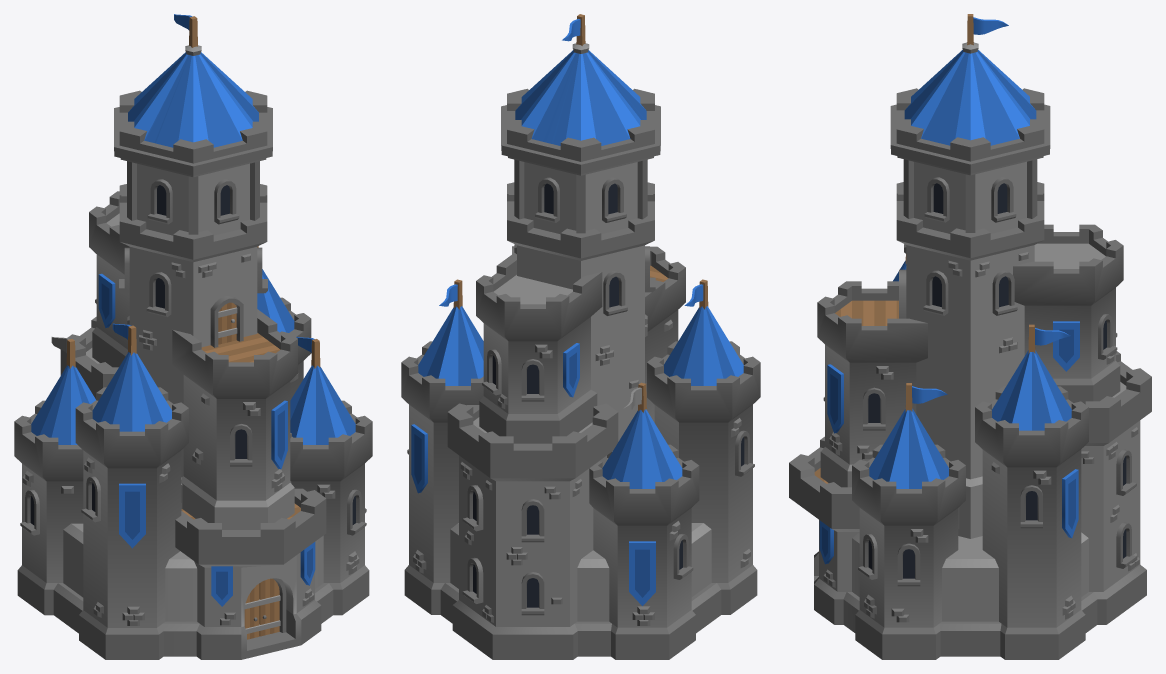
Rendered from castle.glb.
3 views of the same model, side by side, from view 1: azimuth 30°, elevation 25°; view 2: azimuth 150°, elevation 25°; view 3: azimuth 270°, elevation 25° (orthographic).
Visible parts, largest first — view 1: castle; view 2: castle; view 3: castle.
Boxes of the visible parts, x1,y1,x2,y2 form: castle: (14, 14, 372, 659); castle: (401, 14, 760, 659); castle: (789, 14, 1151, 659).
Size of the model in its own units: 1.29 by 2.61 by 1.48.
